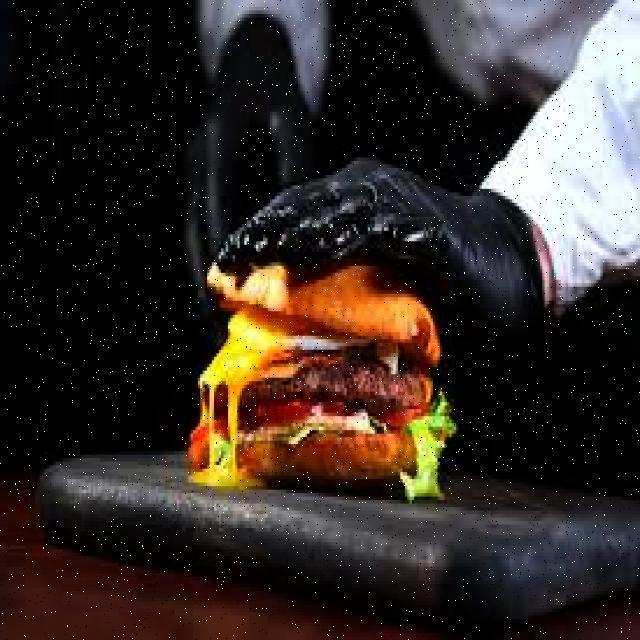apron: (210, 152, 544, 330)
